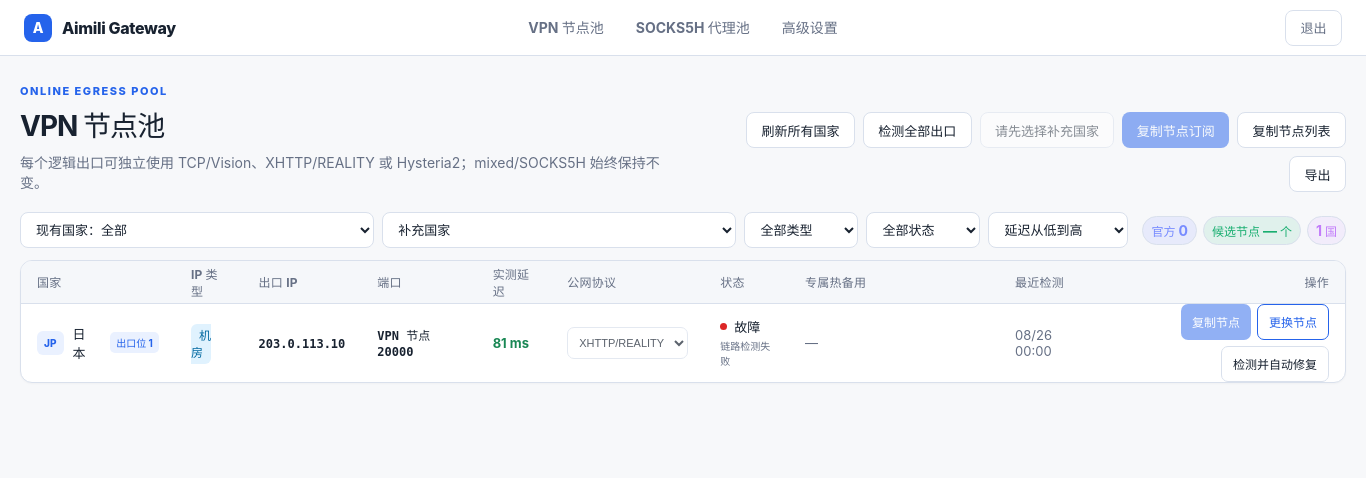
Test: offers a degraded runtime slot the same safe recheck and synchronization action
Click the button "检测并自动修复".
click(1275, 364)  # box top-left (1221, 346), bottom-right (1329, 382)
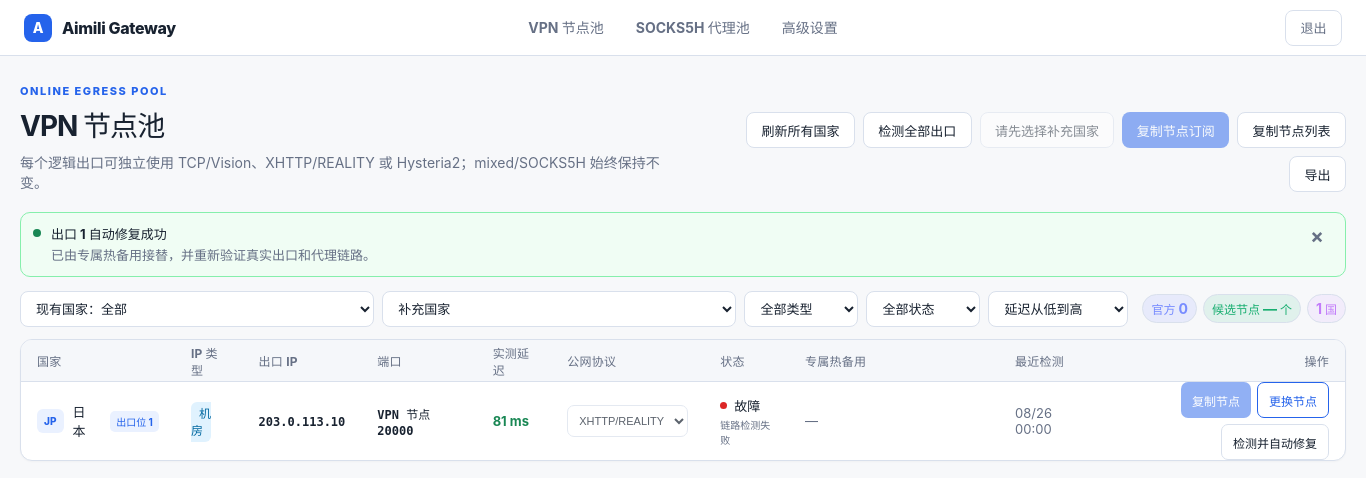
Result: the message "出口 1 自动修复成功 已由专属热备用接替，并重新验证真实出口和代理链路。 ×" is shown at top-left (20, 212), bottom-right (1346, 277)
